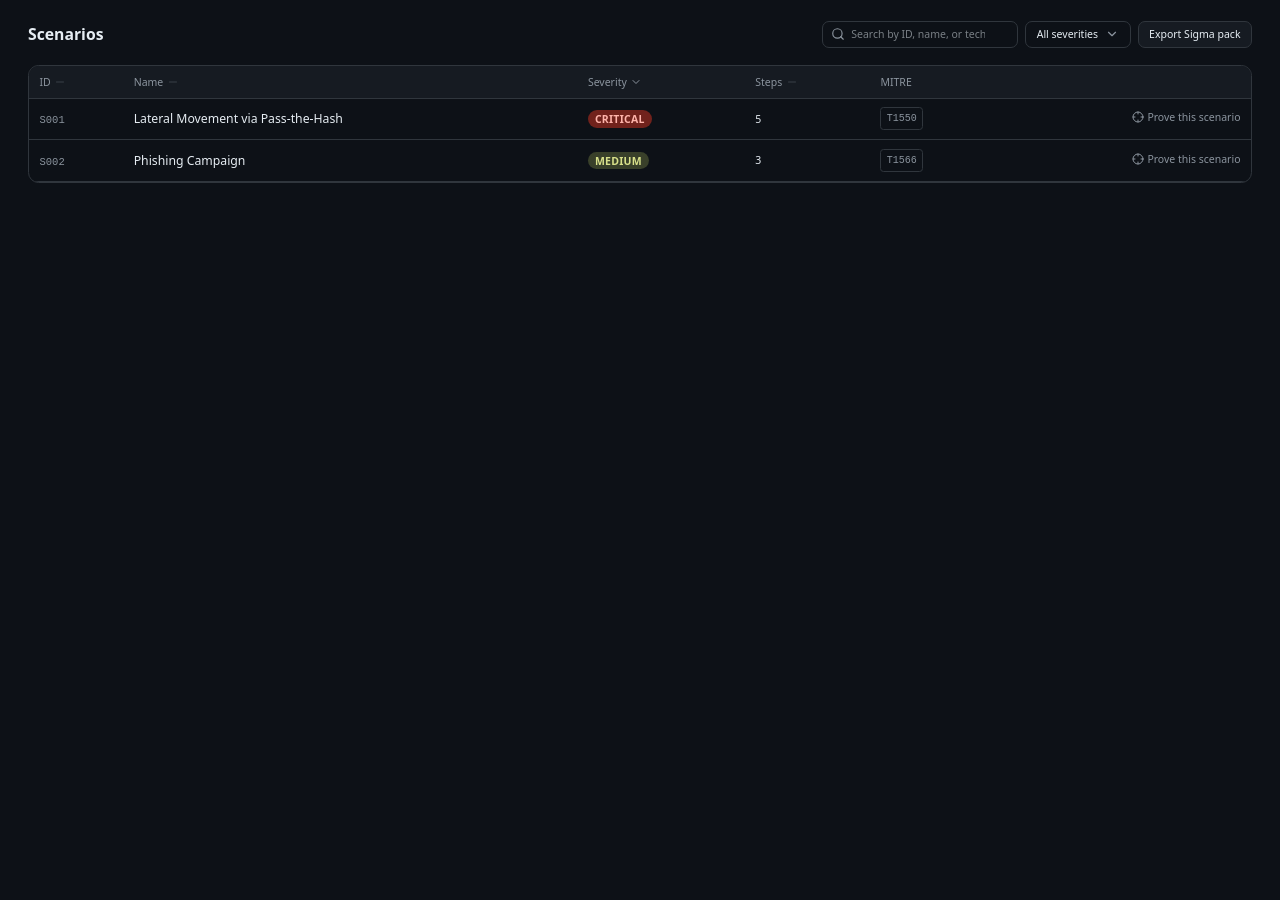
it: Scenarios page › opens the drawer and fetches step bodies + MITRE on row-button click
The width and height of the screenshot is (1280, 900).
Click the button named "view details for Lateral Movement": point(52, 120) [40,113,65,127]
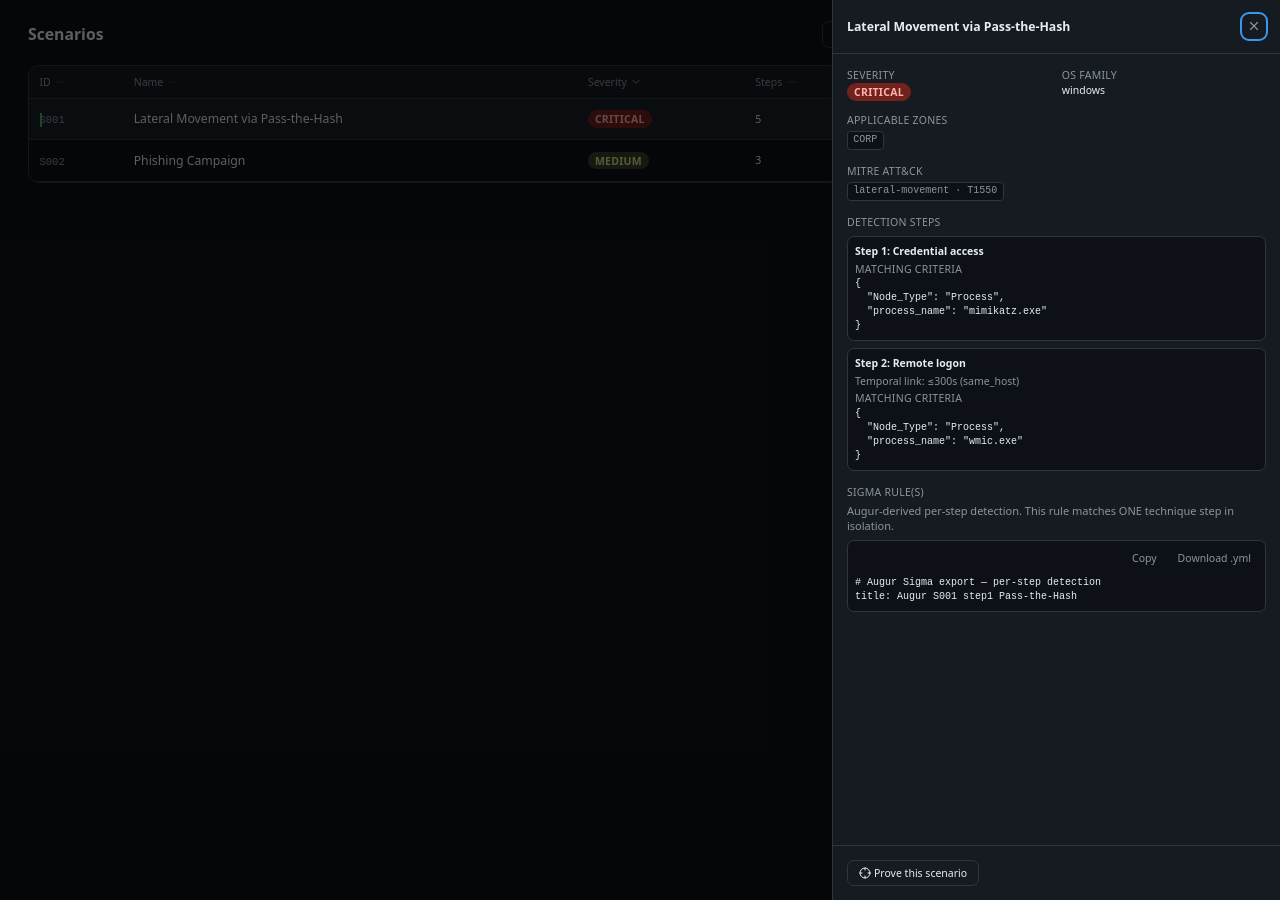
Now the dialog is shown, box [832,0,1279,899]
Now the text "Step 1: Credential access" is shown, box [855,244,984,258]
Now the text "Step 2: Remote logon" is shown, box [855,356,966,370]
